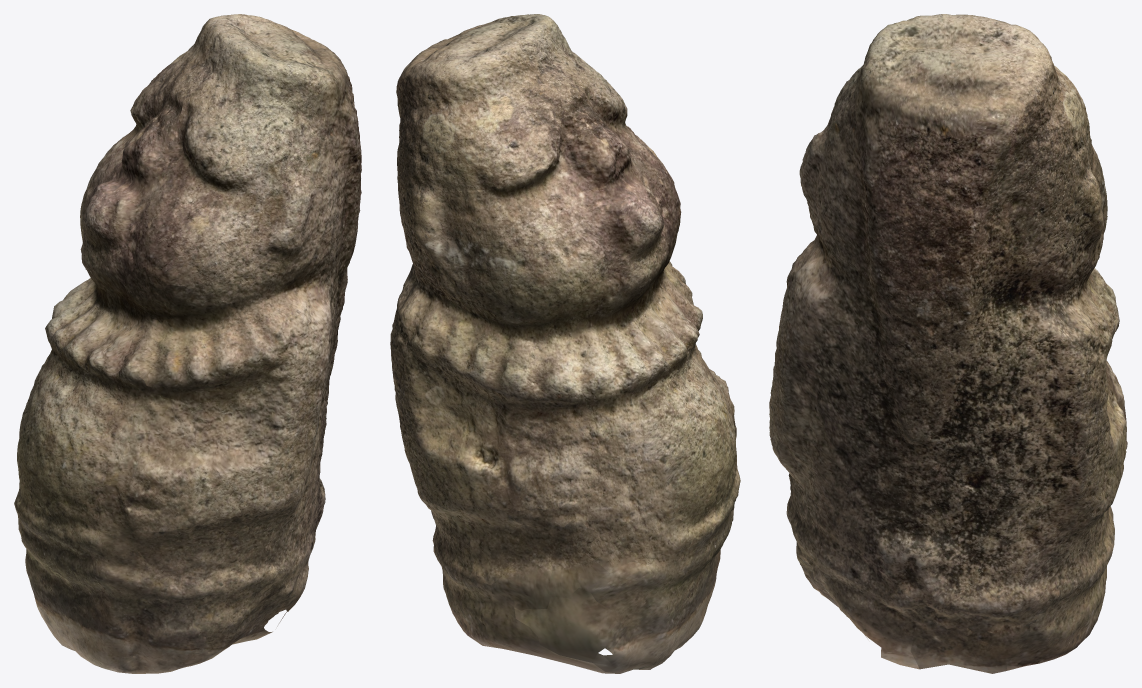
The picture shows the model from 3 angles, left to right: view 1: azimuth 30°, elevation 25°; view 2: azimuth 150°, elevation 25°; view 3: azimuth 270°, elevation 25°; orthographic projection. The views are drawn at different scales.
Visible parts, largest first — view 1: Object; view 2: Object; view 3: Object.
Part boxes in pixels (box(x1,y1,x2,y2)): Object: box(14, 14, 361, 673); Object: box(390, 14, 740, 673); Object: box(769, 14, 1127, 673).
Bounding box in the file's own units: 0.7951 × 1.42 × 0.7034.
Materials: 1 (1 with a texture image).
